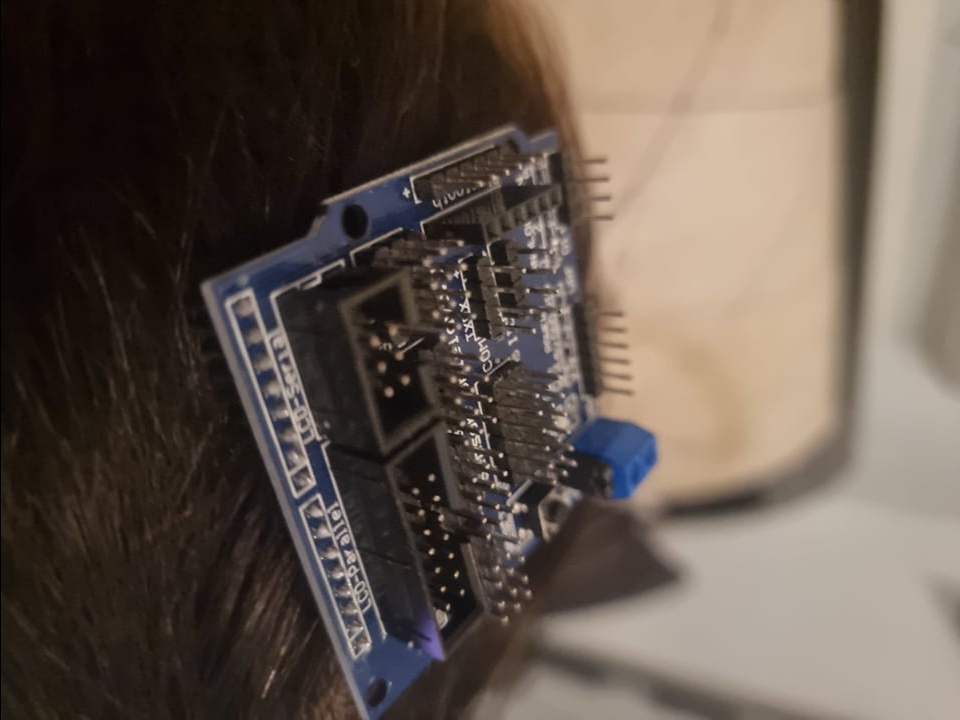5V EXPANSION: (197, 120, 657, 720)
